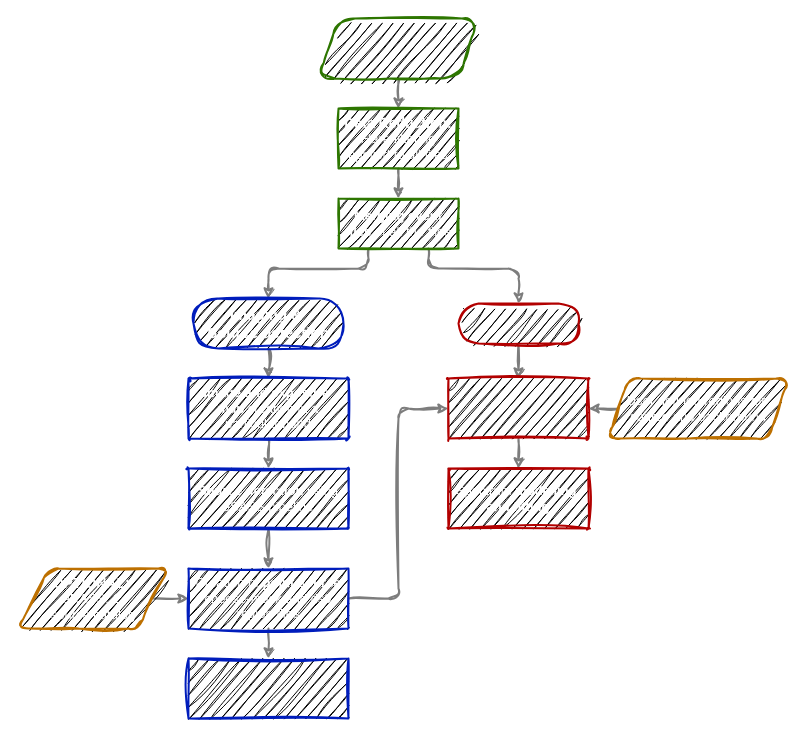
The diagram is 806 pixels wide and 736 high, and some of its shapes have lost their labels. The centre of each missing label's shape, as x and y in pixels:
Adaptive smoothing by masking out point sources: (268,688)
eROSITA raw Event files: (398,48)
Extracting spectrum from the source and background: (518,408)
Spectroscopy: (518,323)
